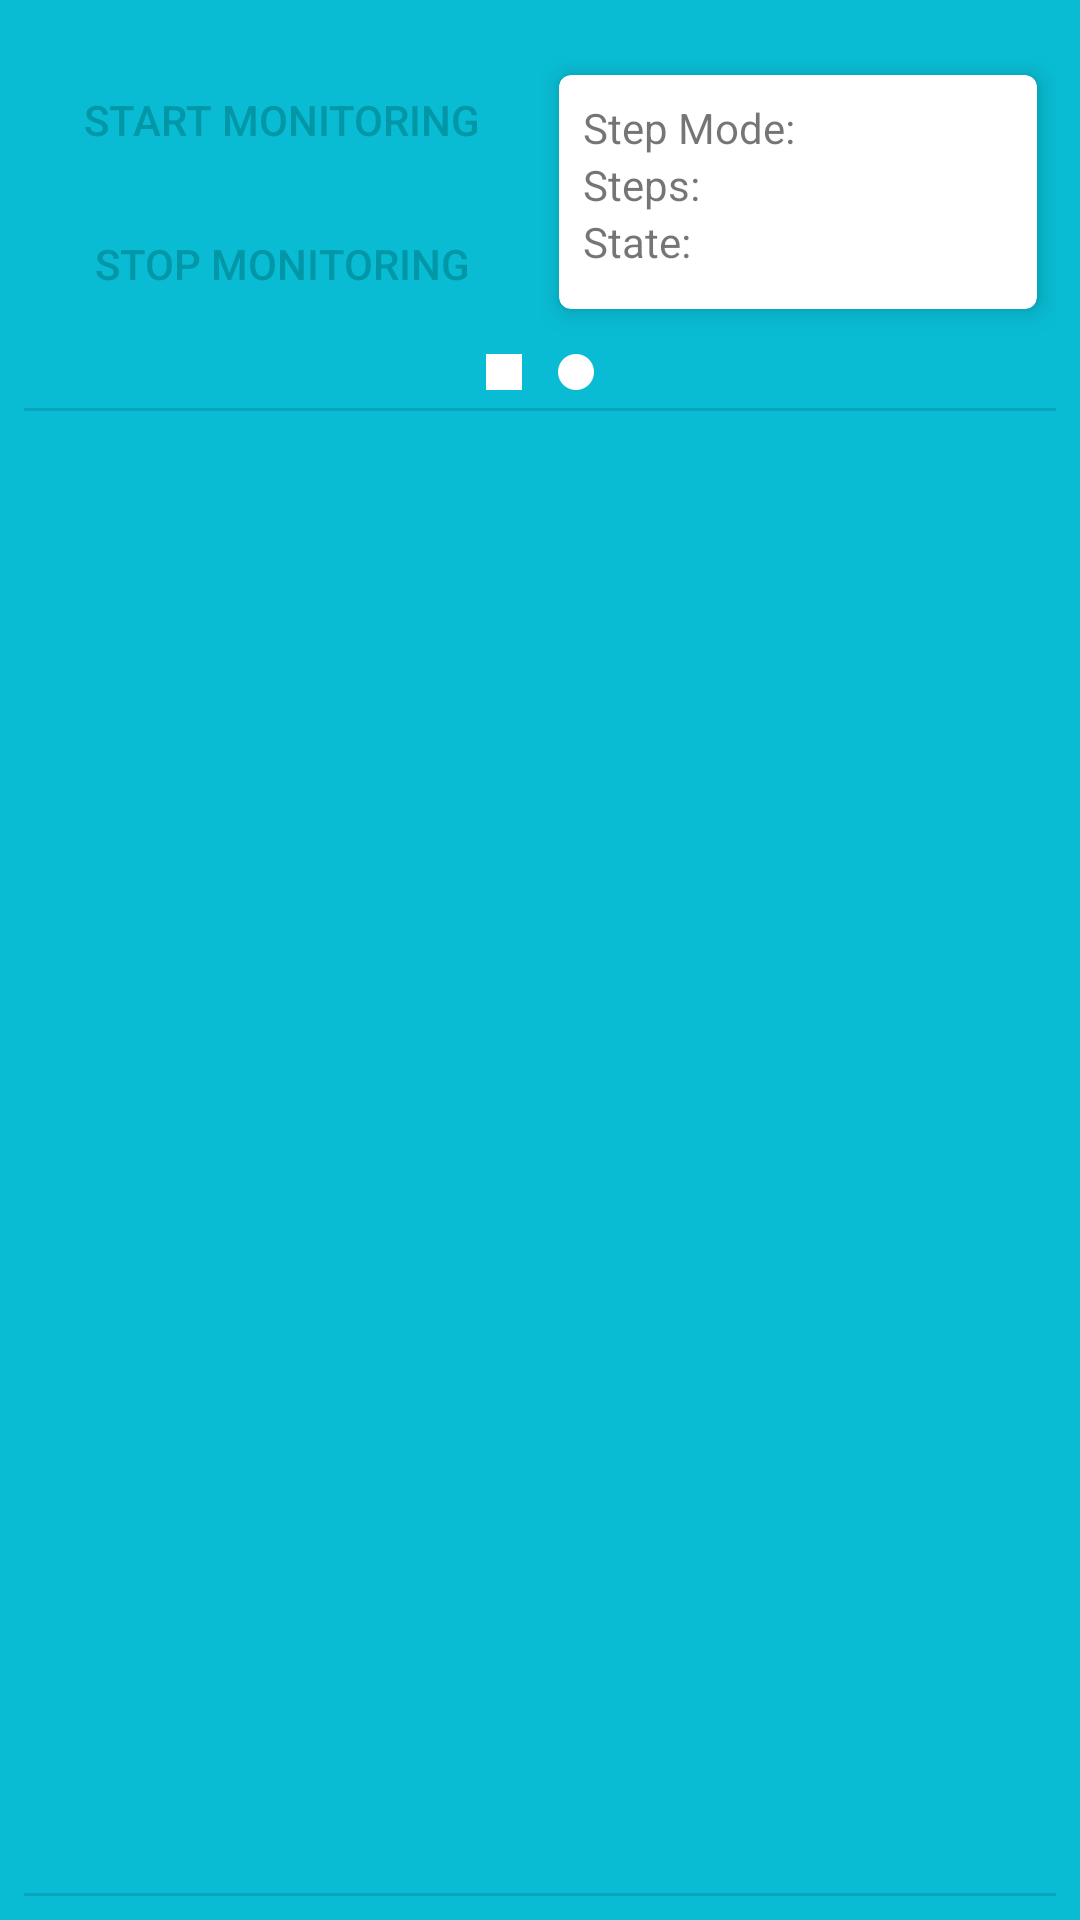

Point at icon controls on the screen. Image size 1080x1920, points as point (x, y).
record: point (576, 372)
